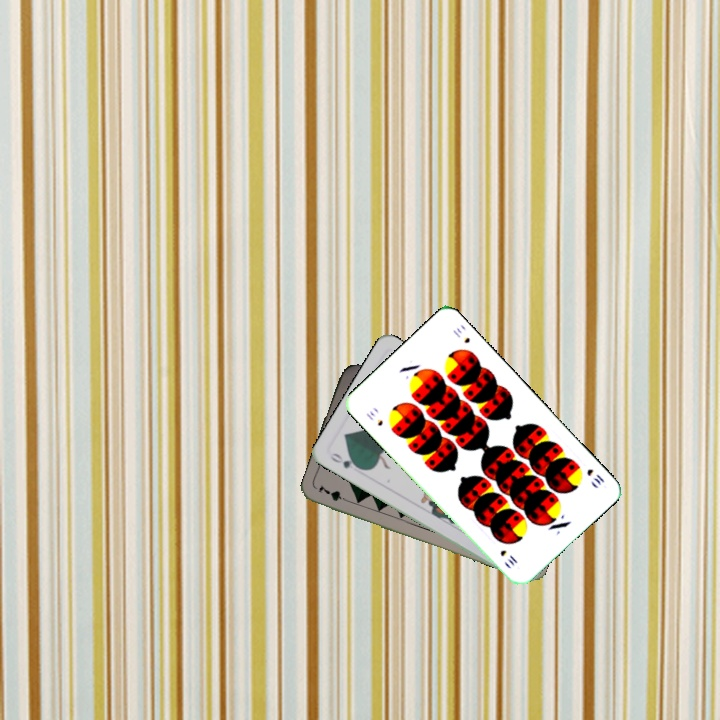G7: (314, 483, 354, 505)
GO: (326, 449, 364, 472)
S10: (583, 465, 607, 488), (362, 407, 386, 429)
